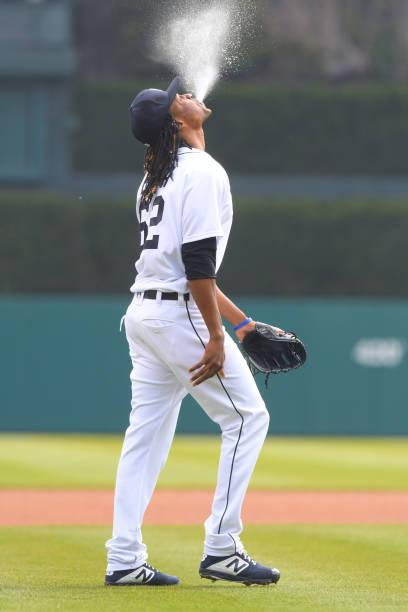Spitting: (107, 42, 253, 162)
